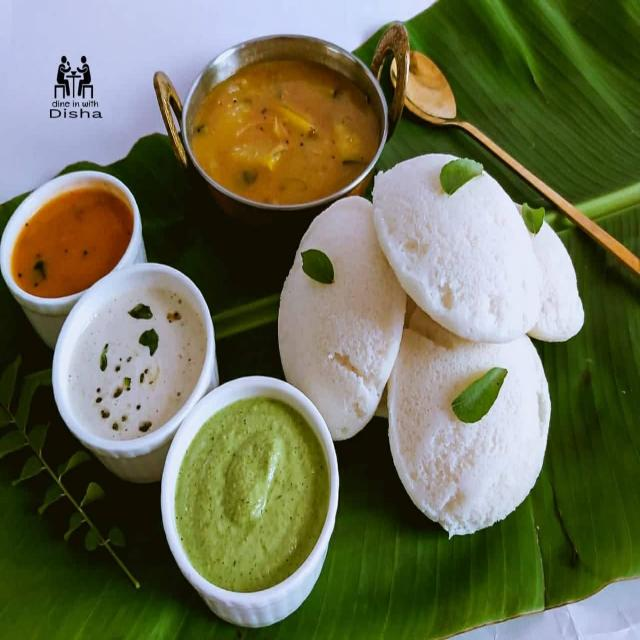Wet Waste: (387, 314, 557, 546), (364, 160, 548, 348), (272, 191, 404, 448), (39, 258, 211, 455), (484, 161, 586, 357)
